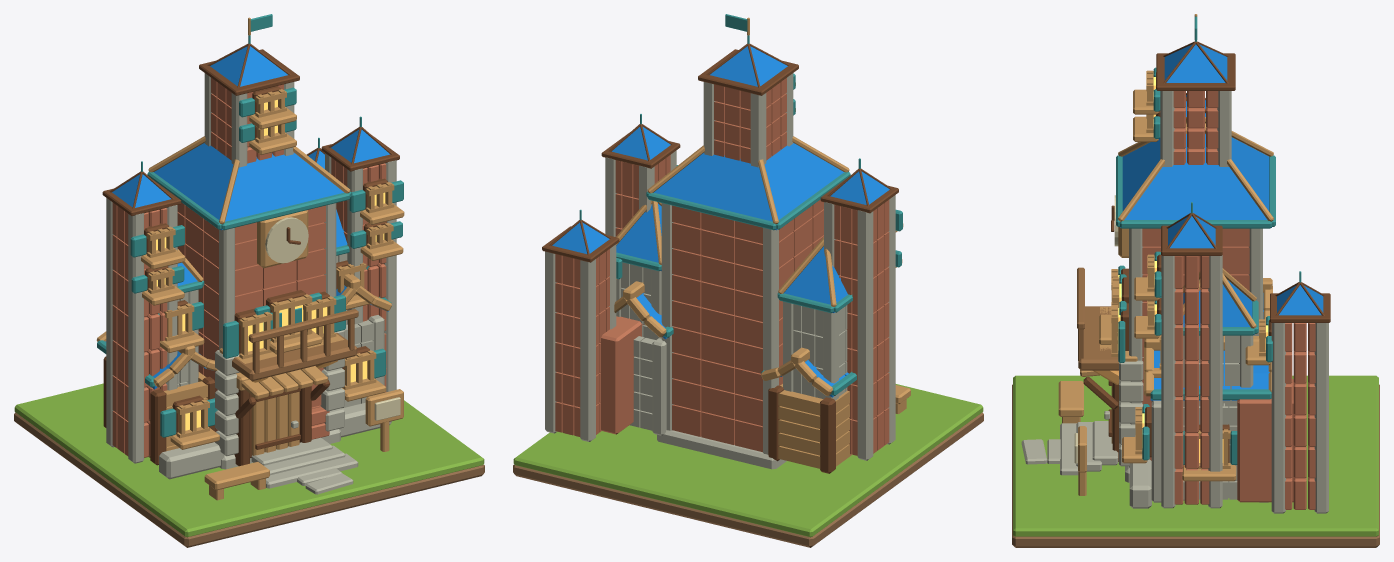
The model's file is town_hall_l13_active_LOD0.glb.
The picture shows the model from 3 angles, left to right: view 1: azimuth 30°, elevation 25°; view 2: azimuth 150°, elevation 25°; view 3: azimuth 270°, elevation 25°; orthographic projection. The views are drawn at different scales.
Parts seen in each view (by area): view 1: town_hall_l13_active_grass_tile, town_hall_l13_active_earth_tile, town_hall_l13_active_corner_reinforcement.024, town_hall_l13_active_hip_roof_shingle.002, town_hall_l13_active_hip_roof_shingle.011, town_hall_l13_active_premium_balcony_floor, town_hall_l13_active_corner_reinforcement.030, town_hall_l13_active_corner_reinforcement.025, town_hall_l13_active_central_spire_roof_shingle, town_hall_l13_active_stone_foundation_course, town_hall_l13_active_corner_reinforcement, town_hall_l13_active_hip_roof_shingle.001 (+37 smaller); view 2: town_hall_l13_active_grass_tile, town_hall_l13_active_earth_tile, town_hall_l13_active_corner_reinforcement.025, town_hall_l13_active_vertical_corner_connector, town_hall_l13_active_hip_roof_shingle.008, town_hall_l13_active_corner_reinforcement.033, town_hall_l13_active_corner_reinforcement.001, town_hall_l13_active_hip_roof_shingle.011, town_hall_l13_active_corner_reinforcement.035, town_hall_l13_active_corner_reinforcement.003, town_hall_l13_active_foundation, town_hall_l13_active_corner_reinforcement.024 (+53 smaller); view 3: town_hall_l13_active_grass_tile, town_hall_l13_active_earth_tile, town_hall_l13_active_vertical_corner_connector, town_hall_l13_active_hip_roof_shingle.005, town_hall_l13_active_corner_reinforcement.030, town_hall_l13_active_corner_reinforcement.031, town_hall_l13_active_corner_reinforcement.035, town_hall_l13_active_corner_reinforcement.034, town_hall_l13_active_hip_roof_shingle.004, town_hall_l13_active_central_spire_roof_shingle, town_hall_l13_active_corner_reinforcement.002, town_hall_l13_active_premium_balcony_floor (+45 smaller).
Boxes of the visible parts, <box> form: town_hall_l13_active_grass_tile: <box>14,383,484,537</box>; town_hall_l13_active_earth_tile: <box>14,412,484,547</box>; town_hall_l13_active_corner_reinforcement.024: <box>128,213,144,463</box>; town_hall_l13_active_hip_roof_shingle.002: <box>221,169,343,229</box>; town_hall_l13_active_hip_roof_shingle.011: <box>154,155,227,229</box>; town_hall_l13_active_premium_balcony_floor: <box>232,332,357,381</box>; town_hall_l13_active_corner_reinforcement.030: <box>384,160,396,391</box>; town_hall_l13_active_corner_reinforcement.025: <box>106,198,114,447</box>; town_hall_l13_active_central_spire_roof_shingle: <box>210,46,287,86</box>; town_hall_l13_active_stone_foundation_course: <box>159,442,223,479</box>; town_hall_l13_active_corner_reinforcement: <box>219,228,235,455</box>; town_hall_l13_active_hip_roof_shingle.001: <box>233,153,314,189</box>; town_hall_l13_active_grass_tile: <box>513,384,983,537</box>; town_hall_l13_active_earth_tile: <box>513,412,983,547</box>; town_hall_l13_active_corner_reinforcement.025: <box>857,210,873,460</box>; town_hall_l13_active_vertical_corner_connector: <box>600,316,643,434</box>; town_hall_l13_active_hip_roof_shingle.008: <box>654,169,776,229</box>; town_hall_l13_active_corner_reinforcement.033: <box>580,259,595,441</box>; town_hall_l13_active_corner_reinforcement.001: <box>762,228,778,454</box>; town_hall_l13_active_hip_roof_shingle.011: <box>770,155,843,229</box>; town_hall_l13_active_corner_reinforcement.035: <box>545,251,556,433</box>; town_hall_l13_active_corner_reinforcement.003: <box>661,203,673,430</box>; town_hall_l13_active_foundation: <box>657,430,786,469</box>; town_hall_l13_active_corner_reinforcement.024: <box>887,195,895,444</box>; town_hall_l13_active_grass_tile: <box>1013,375,1378,536</box>; town_hall_l13_active_earth_tile: <box>1012,384,1379,547</box>; town_hall_l13_active_vertical_corner_connector: <box>1237,379,1293,502</box>; town_hall_l13_active_hip_roof_shingle.005: <box>1120,189,1271,227</box>; town_hall_l13_active_corner_reinforcement.030: <box>1161,255,1175,508</box>; town_hall_l13_active_corner_reinforcement.031: <box>1208,255,1222,508</box>; town_hall_l13_active_corner_reinforcement.035: <box>1314,323,1328,513</box>; town_hall_l13_active_corner_reinforcement.034: <box>1271,323,1285,513</box>; town_hall_l13_active_hip_roof_shingle.004: <box>1147,154,1244,188</box>; town_hall_l13_active_central_spire_roof_shingle: <box>1164,44,1227,82</box>; town_hall_l13_active_corner_reinforcement.002: <box>1129,228,1143,467</box>; town_hall_l13_active_premium_balcony_floor: <box>1078,306,1118,370</box>.
Size of the model in its own units: 3.6 by 4.94 by 3.6.
